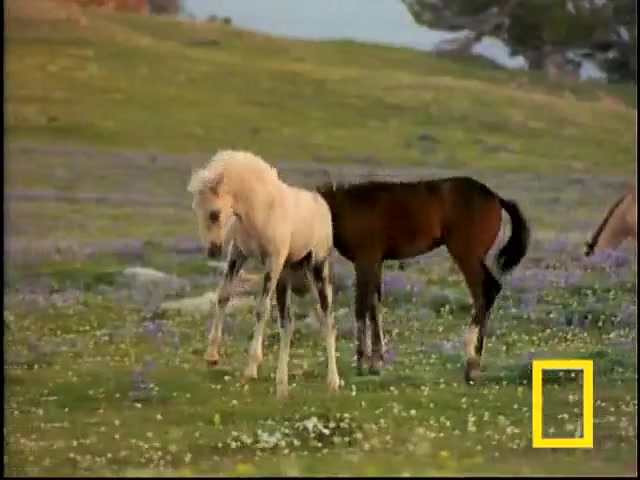horse: (187, 147, 340, 402)
